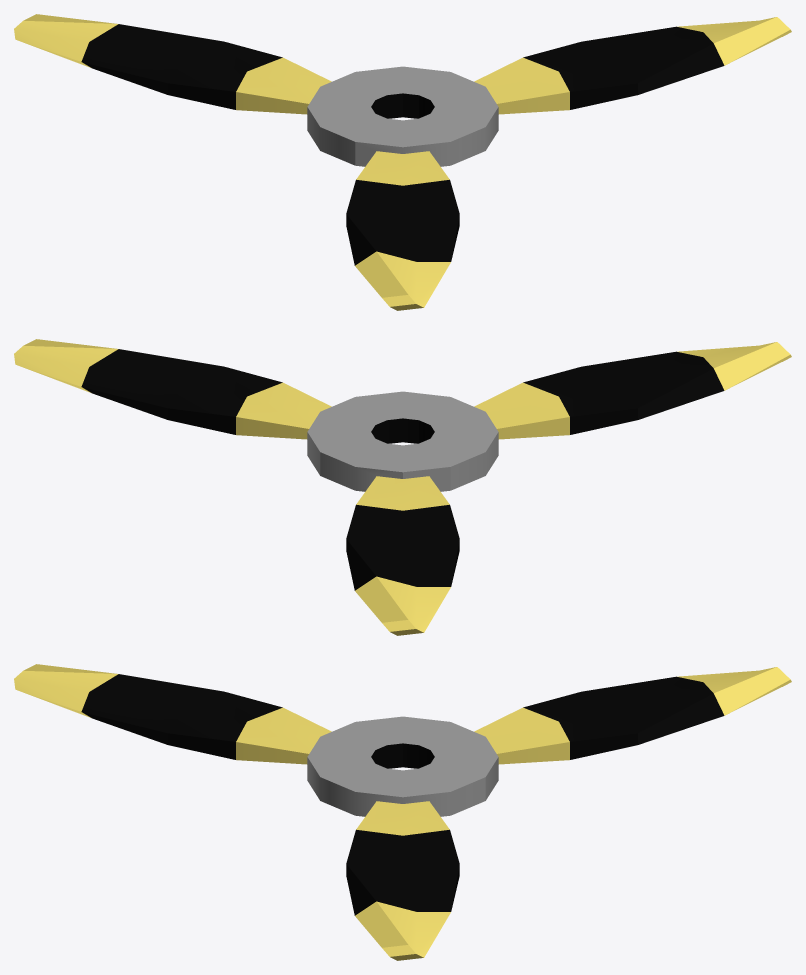
File: Propeller.gltf
3 renders of one model, top to bottom at view 1: azimuth 30°, elevation 25°; view 2: azimuth 150°, elevation 25°; view 3: azimuth 270°, elevation 25°, orthographic.
Parts seen in each view (by area): view 1: Propeller; view 2: Propeller; view 3: Propeller.
Part boxes in pixels (x1,y1,x2,y2): Propeller: (14,14,791,310); Propeller: (14,339,791,635); Propeller: (14,664,791,960).
Bounding box in the file's own units: 2.15 × 0.0877 × 2.46.
1 material, 1 textured.
